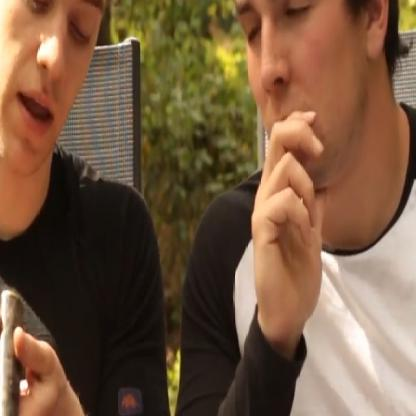knife: (0, 271, 52, 415)
